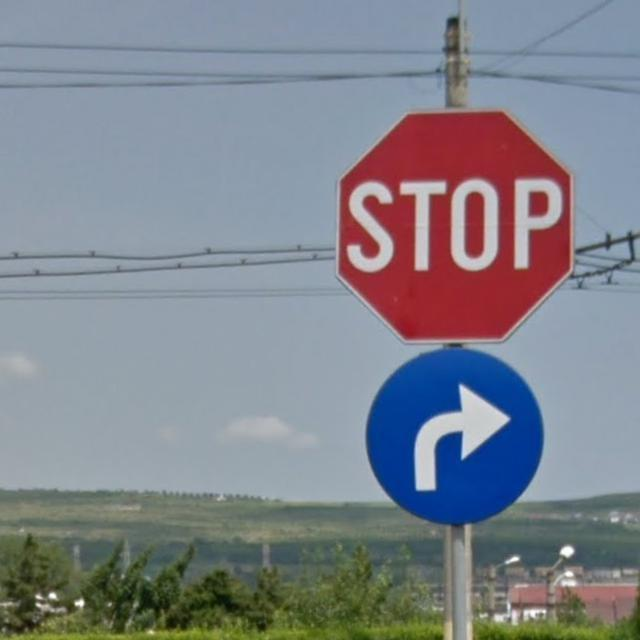prio_stop: (334, 110, 574, 342)
